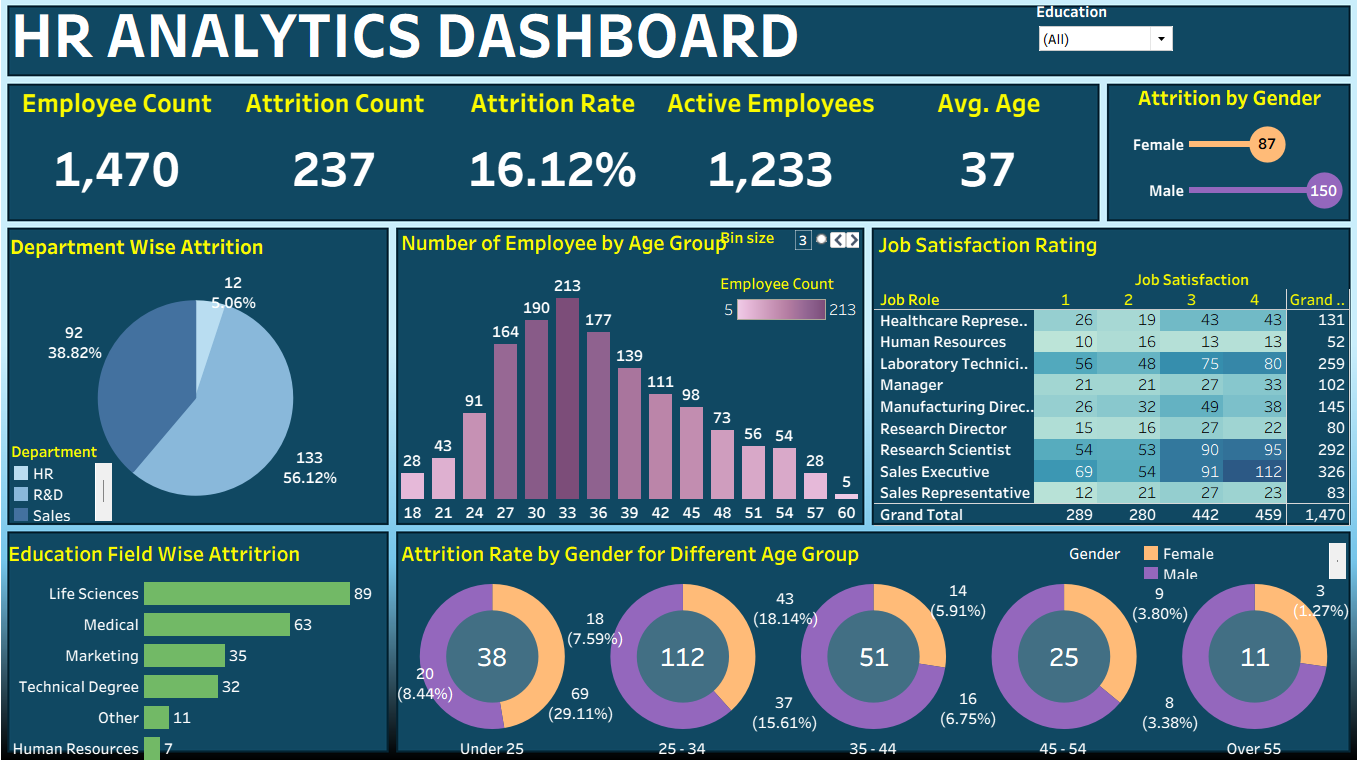

The page's visual inventory and layout, read from the dashboard file:
{"tool":"tableau","page":{"name":"HR Analytics Dashboard","canvas":[1580,900],"ordinal":0},"visuals":[{"type":"image","param":"Image/hr background.png","box":[8,8,1564,884]},{"type":"text","box":[21,21,1537,78]},{"type":"filter","title":"Department Wise Attrition","param":"[federated.1u9asxh124925g15c91xw0ha14g2].[none:Education:nk]","box":[1199,25,160,72]},{"type":"worksheet","title":"KPI","mark":"Automatic","box":[22,112,1248,153]},{"type":"worksheet","title":"Attrition by Gender","mark":"Automatic","rows":["Gender"],"cols":["Calculation_378020938428997632","Calculation_378020938428997632"],"box":[1282,113,276,151]},{"type":"worksheet","title":"Number of Employee by Age Group ","mark":"Automatic","rows":["Employee Count"],"cols":["Age (bin)"],"box":[467,276,532,338]},{"type":"worksheet","title":"Job Satisfaction Rating","mark":"Square","rows":["Job Role"],"cols":["Job Satisfaction"],"box":[1013,278,545,337]},{"type":"parameter","param":"[Parameters].[Parameter 1]","box":[837,279,163,49]},{"type":"worksheet","title":"Department Wise Attrition","mark":"Pie","box":[20,280,434,335]},{"type":"legend","title":"Number of Employee by Age Group ","param":"[federated.1u9asxh124925g15c91xw0ha14g2].[sum:Employee Count:qk]","box":[837,331,161,56]},{"type":"legend","title":"Department Wise Attrition","param":"[federated.1u9asxh124925g15c91xw0ha14g2].[none:Department:nk]","box":[25,520,118,90]},{"type":"worksheet","title":"Education Field Wise Attritrion","mark":"Automatic","rows":["Education Field"],"cols":["Calculation_378020938428997632"],"box":[17,625,438,258]},{"type":"worksheet","title":"Attrition Rate by Gender for Different Age Group","mark":"Pie","rows":["Calculation_378020938509398024","Calculation_378020938509398024"],"cols":["CF_age band"],"box":[467,626,1091,253]},{"type":"legend","title":"Attrition Rate by Gender for Different Age Group","param":"[federated.1u9asxh124925g15c91xw0ha14g2].[none:Gender:nk]","box":[1236,635,319,40]}]}

Visuals, with their boxes in screenshot pixels (x1, y1, x2, y2), scaled from the page's 1580x900 canvas onto the 1357x760 screenshot:
image: 7,7,1350,753
text: 18,18,1338,84
"Department Wise Attrition" filter: 1030,21,1167,82
"KPI" worksheet: 19,95,1091,224
"Attrition by Gender" worksheet: 1101,95,1338,223
"Number of Employee by Age Group " worksheet: 401,233,858,518
"Job Satisfaction Rating" worksheet (Square marks): 870,235,1338,519
parameter: 719,236,859,277
"Department Wise Attrition" worksheet (Pie marks): 17,236,390,519
"Number of Employee by Age Group " legend: 719,280,857,327
"Department Wise Attrition" legend: 21,439,123,515
"Education Field Wise Attritrion" worksheet: 15,528,391,746
"Attrition Rate by Gender for Different Age Group" worksheet (Pie marks): 401,529,1338,742
"Attrition Rate by Gender for Different Age Group" legend: 1062,536,1336,570
